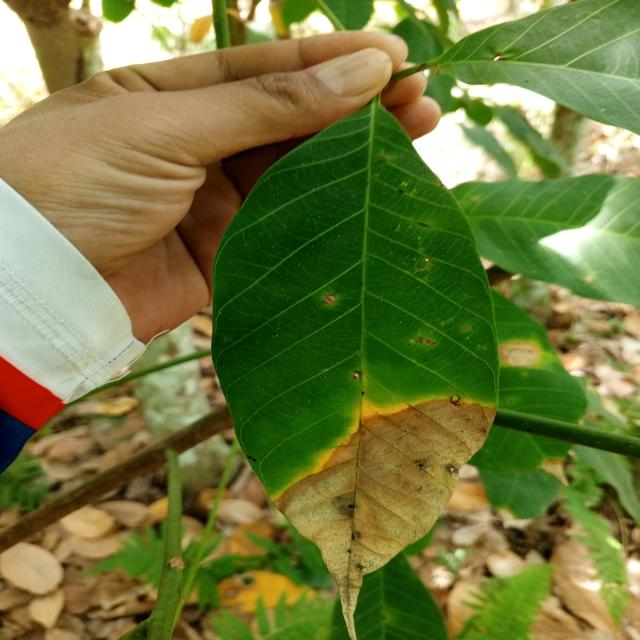Colletotrichum: (323, 294, 338, 305), (348, 504, 354, 509), (418, 463, 424, 468), (424, 258, 430, 262)
Leaf-Blight: (272, 398, 498, 640)
